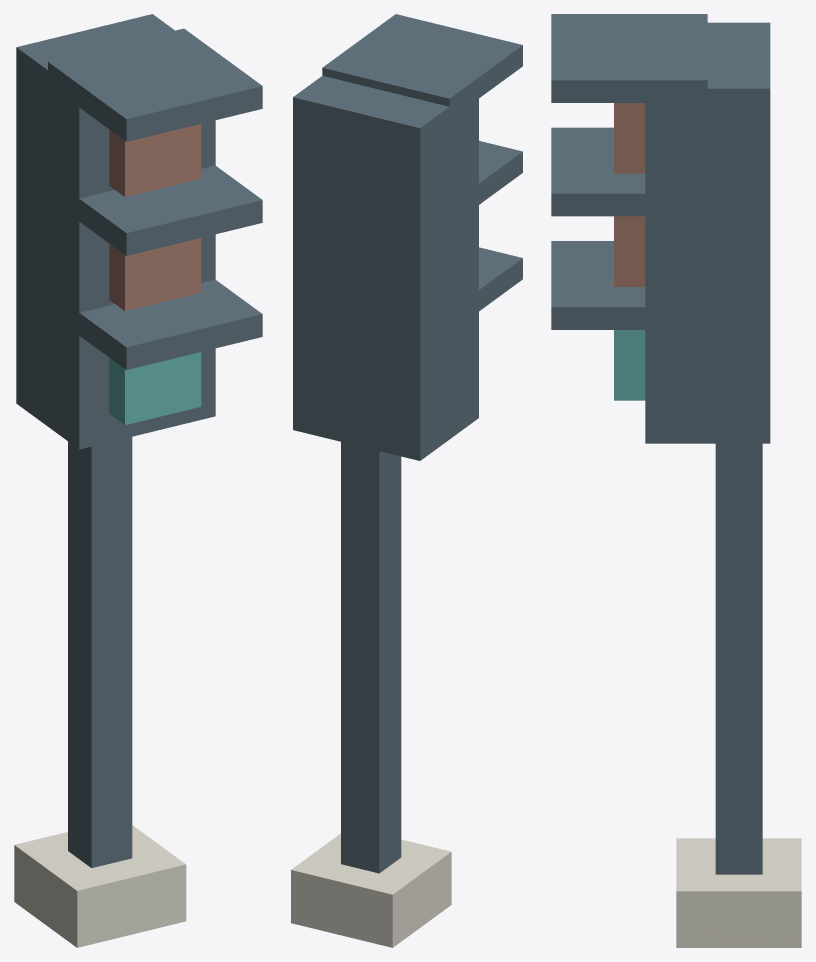
File: voxel-city-districts-traffic-signal-20c5e7c5__24836.glb
3 views of the same model, side by side, from view 1: azimuth 30°, elevation 25°; view 2: azimuth 150°, elevation 25°; view 3: azimuth 270°, elevation 25° (orthographic). The views are drawn at different scales.
Visible parts, largest first — view 1: traffic-signal-dark, traffic-signal-concrete, traffic-signal-roof, traffic-signal-accent; view 2: traffic-signal-dark, traffic-signal-concrete; view 3: traffic-signal-dark, traffic-signal-concrete, traffic-signal-roof, traffic-signal-accent.
Part boxes in pixels (x1,y1,x2,y2): traffic-signal-dark: [16, 14, 262, 868]; traffic-signal-concrete: [14, 825, 186, 947]; traffic-signal-roof: [109, 124, 201, 311]; traffic-signal-accent: [109, 352, 201, 425]; traffic-signal-dark: [293, 14, 522, 873]; traffic-signal-concrete: [291, 833, 451, 947]; traffic-signal-dark: [551, 14, 770, 874]; traffic-signal-concrete: [676, 838, 801, 947]; traffic-signal-roof: [614, 103, 645, 286]; traffic-signal-accent: [614, 330, 645, 400].
Size of the model in its own units: 0.4999 by 3.08 by 0.8.
